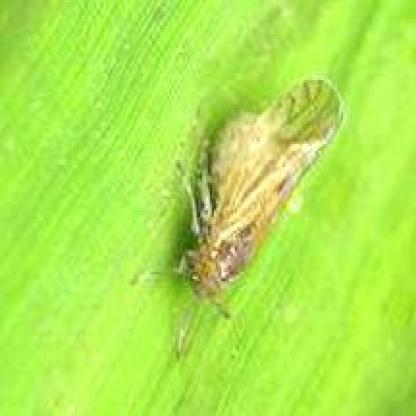brown-planthopper: (166, 70, 356, 323)
